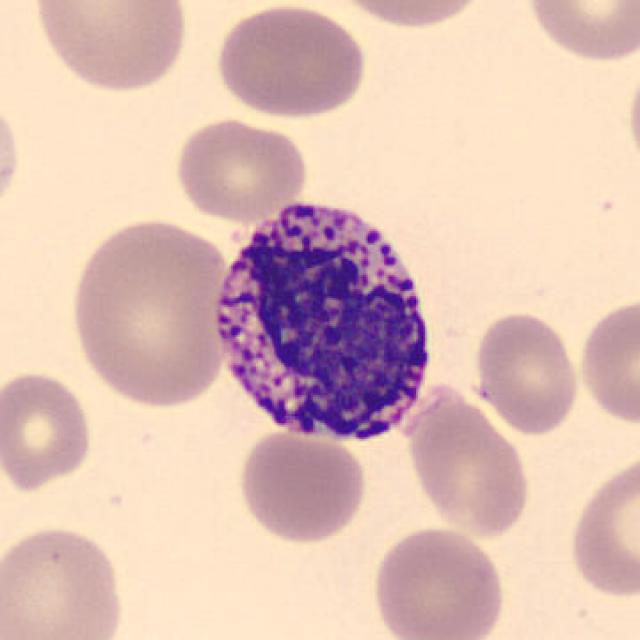Basophil: (201, 183, 446, 455)
RBC: (66, 214, 233, 412), (404, 384, 535, 542), (210, 0, 370, 122), (233, 425, 370, 548), (367, 523, 508, 640), (27, 0, 192, 95), (0, 522, 130, 640), (171, 115, 311, 224), (469, 307, 583, 437), (0, 367, 96, 495), (564, 450, 638, 601), (574, 294, 638, 428), (521, 0, 638, 65), (326, 0, 492, 32), (0, 84, 27, 228), (624, 50, 640, 182)
